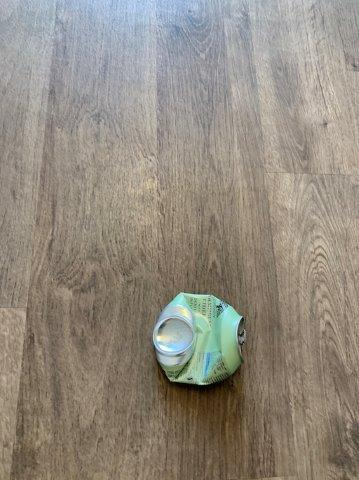kaleng: (157, 294, 243, 383)
